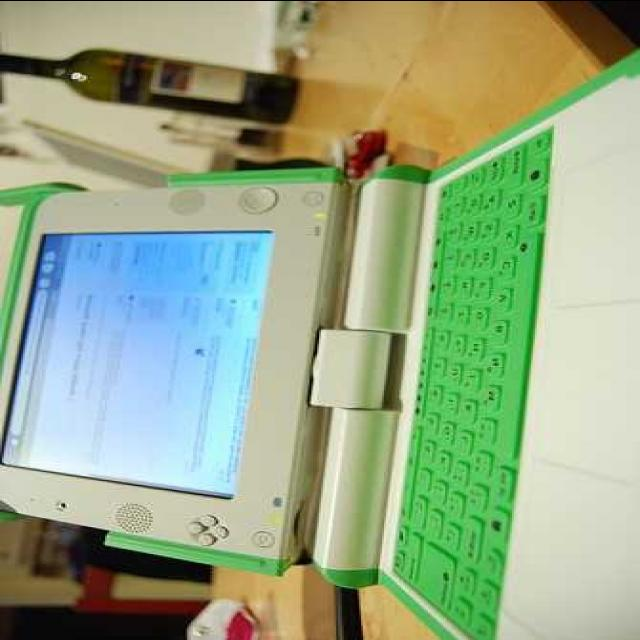laptop: (13, 105, 639, 640)
